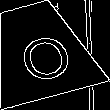O_N: (8, 20, 71, 81)
